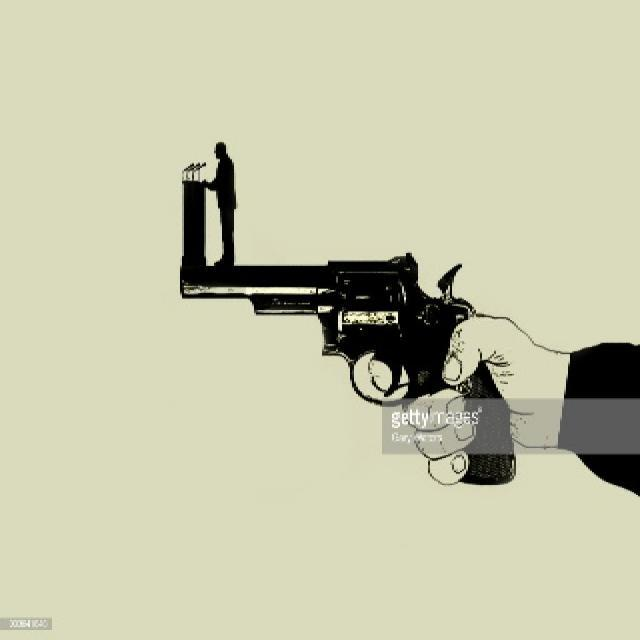weapon: (164, 129, 522, 488)
